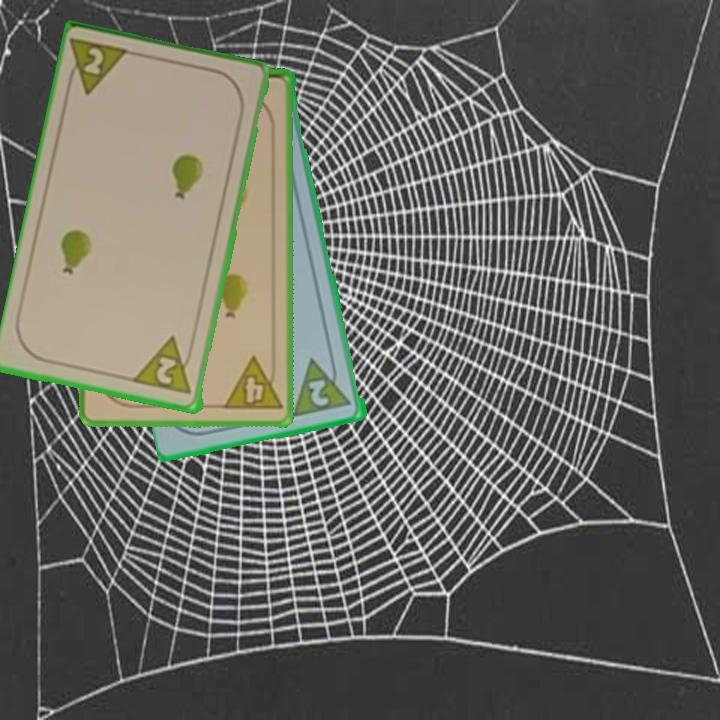2p: (63, 35, 135, 99), (291, 352, 355, 420), (132, 333, 198, 398)
4p: (219, 354, 284, 414)
